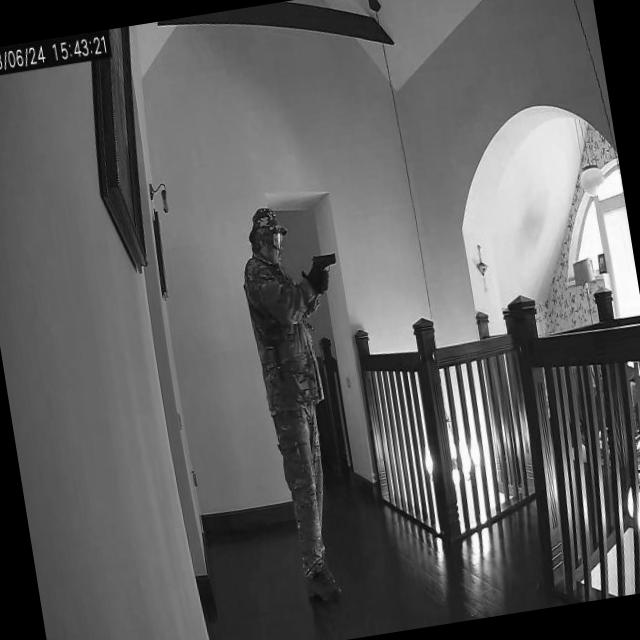gun: (308, 248, 340, 282)
person with a gun: (233, 201, 354, 605)
